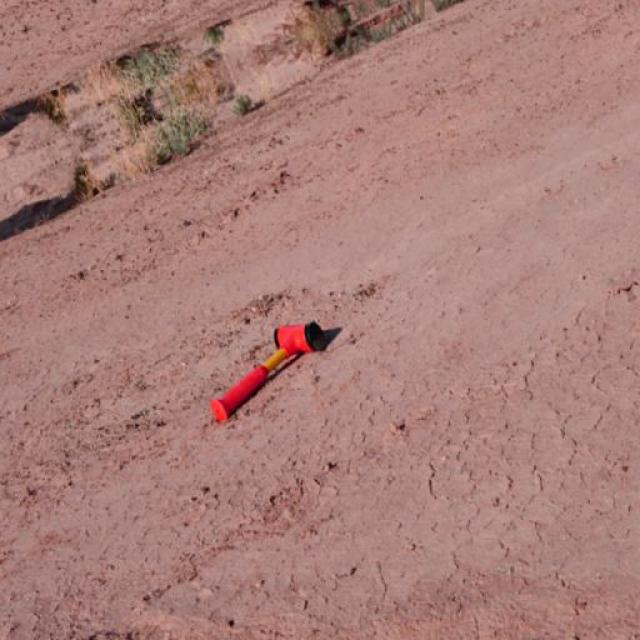mallet: (210, 318, 330, 422)
